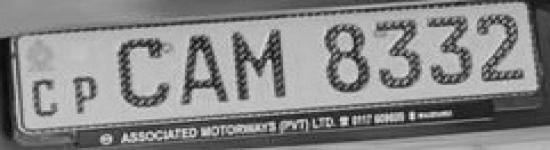2: (475, 12, 527, 83)
3: (372, 16, 427, 91), (423, 13, 475, 87)
8: (312, 21, 374, 96)
A: (177, 33, 231, 106)
C: (113, 36, 174, 109), (27, 75, 69, 120)
M: (230, 26, 294, 103)
P: (68, 75, 103, 121)
